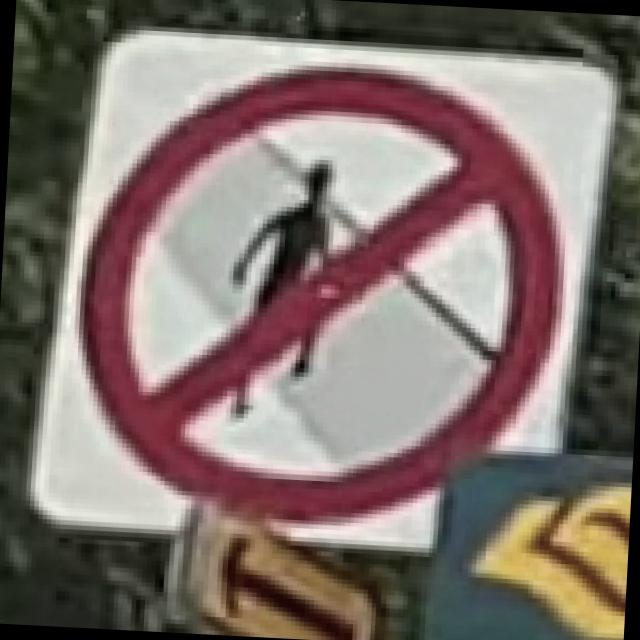nojaywalking_sign: (24, 16, 619, 562)
